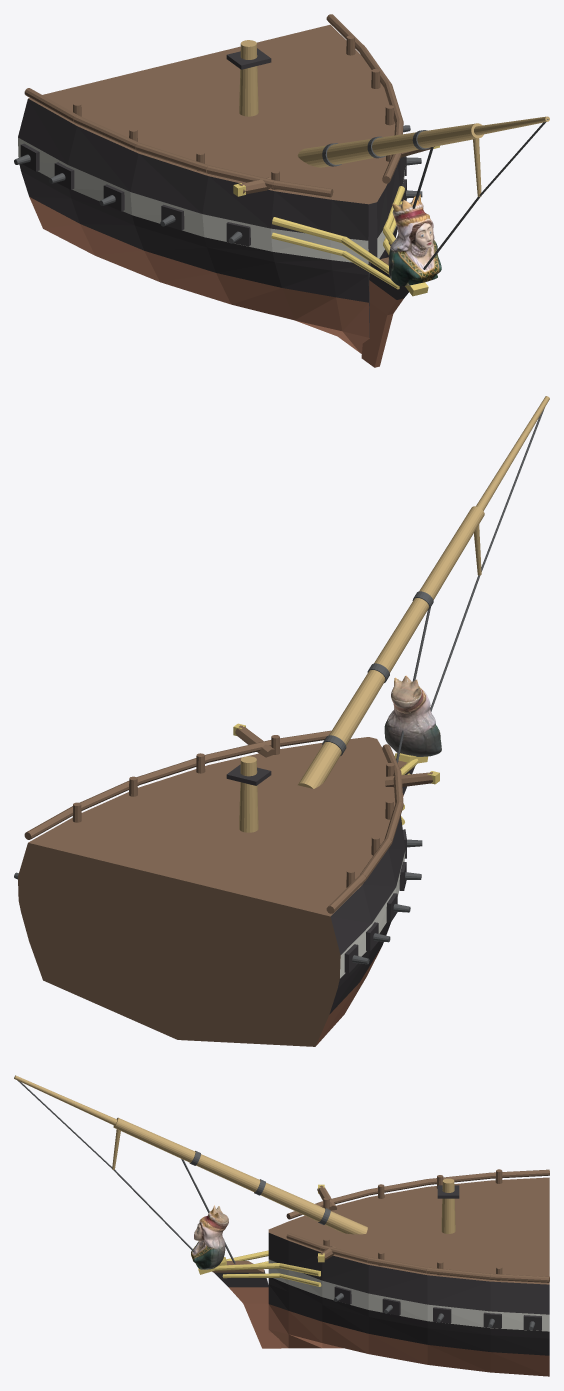
Rendered from calliope.glb.
3 renders of one model, top to bottom at view 1: azimuth 30°, elevation 25°; view 2: azimuth 150°, elevation 25°; view 3: azimuth 270°, elevation 25°, orthographic. The views are drawn at different scales.
Visible parts, largest first — view 1: calliope_ParentBow, calliope_Figurehead; view 2: calliope_ParentBow, calliope_Figurehead; view 3: calliope_ParentBow, calliope_Figurehead.
Part boxes in pixels (x1,y1,x2,y2): calliope_ParentBow: [14, 14, 549, 367]; calliope_Figurehead: [388, 194, 441, 286]; calliope_ParentBow: [14, 396, 549, 1046]; calliope_Figurehead: [384, 675, 441, 756]; calliope_ParentBow: [14, 1075, 549, 1376]; calliope_Figurehead: [191, 1205, 228, 1269].
Size of the model in its own units: 12.37 by 12.55 by 22.4.
Materials: 2 (2 with a texture image).
